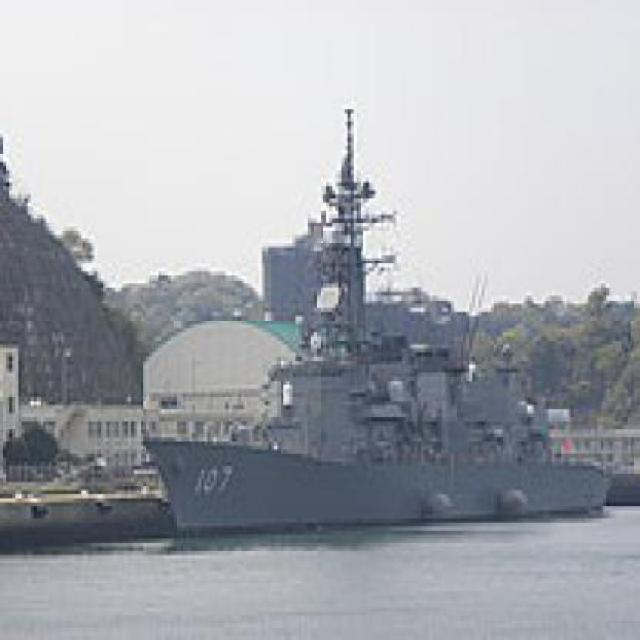warship2: (129, 127, 623, 581)
